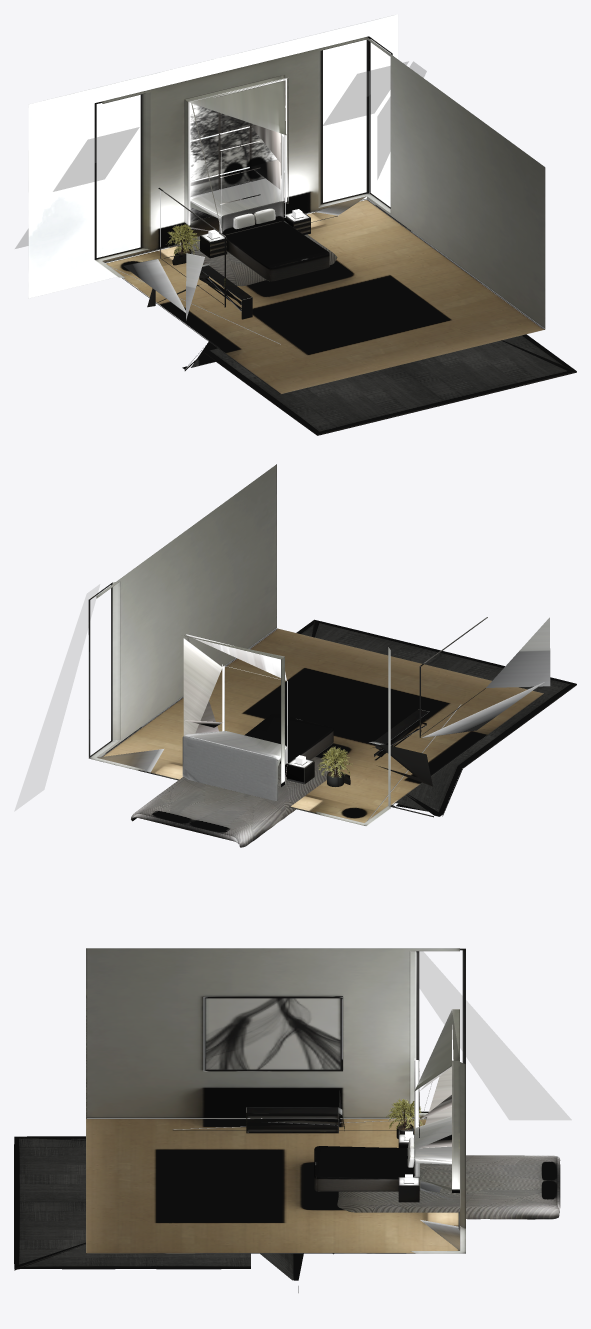
File: room6.glb
The picture shows the model from 3 angles, top to bottom: view 1: azimuth 30°, elevation 25°; view 2: azimuth 150°, elevation 25°; view 3: azimuth 270°, elevation 25°; orthographic projection. The views are drawn at different scales.
Parts seen in each view (by area): view 1: Bedroom_Bedroom_0, Bedroom_Carpet_0, Bedroom_Windows_0, Bedroom_Duvet_0; view 2: Bedroom_Bedroom_0, Bedroom_Carpet_0, Bedroom_Duvet_0, Bedroom_Windows_0; view 3: Bedroom_Bedroom_0, Bedroom_Carpet_0, Bedroom_Duvet_0, Bedroom_Windows_0.
Boxes of the visible parts, x1,y1,x2,y2 form: Bedroom_Bedroom_0: (28, 14, 545, 394); Bedroom_Carpet_0: (182, 334, 576, 435); Bedroom_Windows_0: (15, 61, 426, 248); Bedroom_Duvet_0: (169, 216, 337, 286); Bedroom_Bedroom_0: (88, 464, 550, 826); Bedroom_Carpet_0: (296, 619, 576, 817); Bedroom_Duvet_0: (131, 757, 341, 847); Bedroom_Windows_0: (14, 584, 99, 811); Bedroom_Bedroom_0: (86, 948, 465, 1253); Bedroom_Carpet_0: (14, 1136, 303, 1292); Bedroom_Duvet_0: (333, 1155, 560, 1254); Bedroom_Windows_0: (419, 951, 571, 1119).
Bounding box in the file's own units: 17.93 × 9.84 × 22.56.
4 materials, 3 textured.
